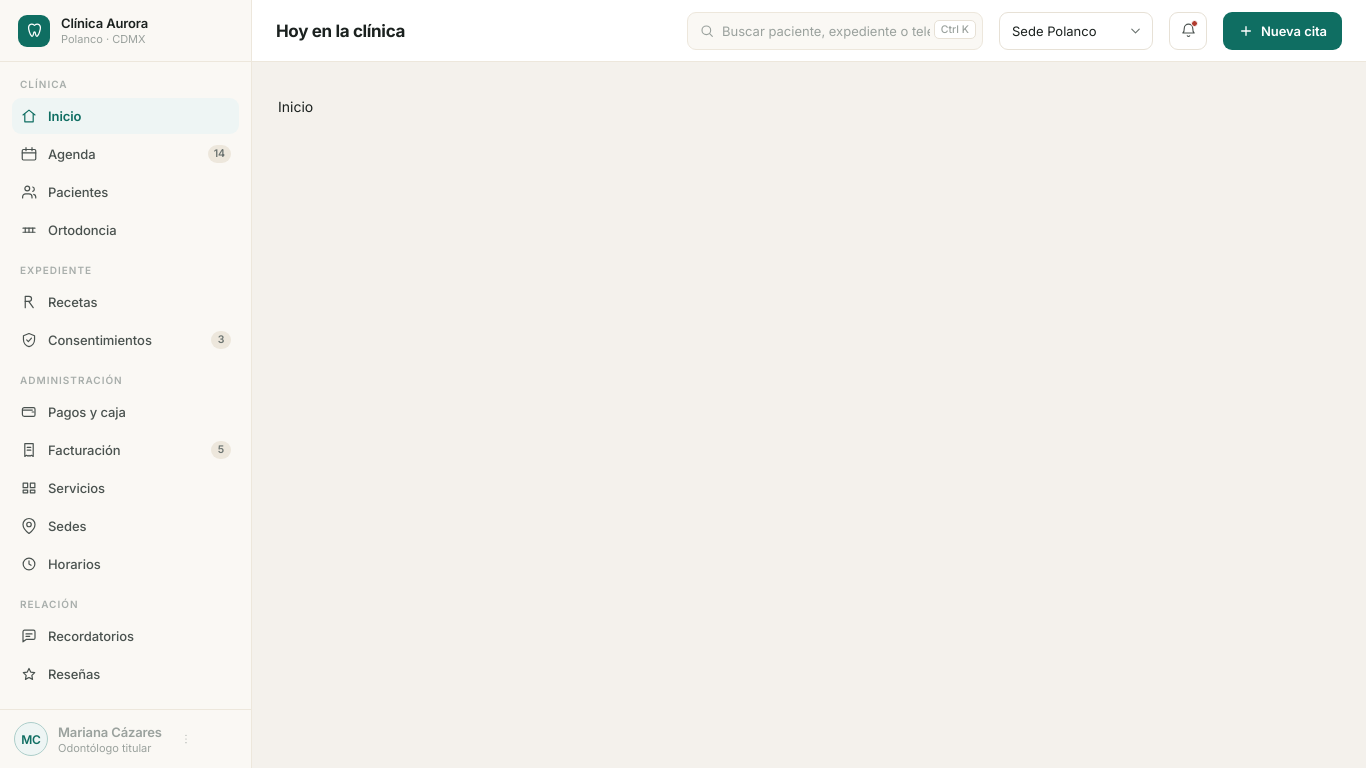
Test: <PanelShell /> › navigates from the sidebar
Click the link "Pacientes".
click(64, 192)  # box [20, 183, 108, 201]
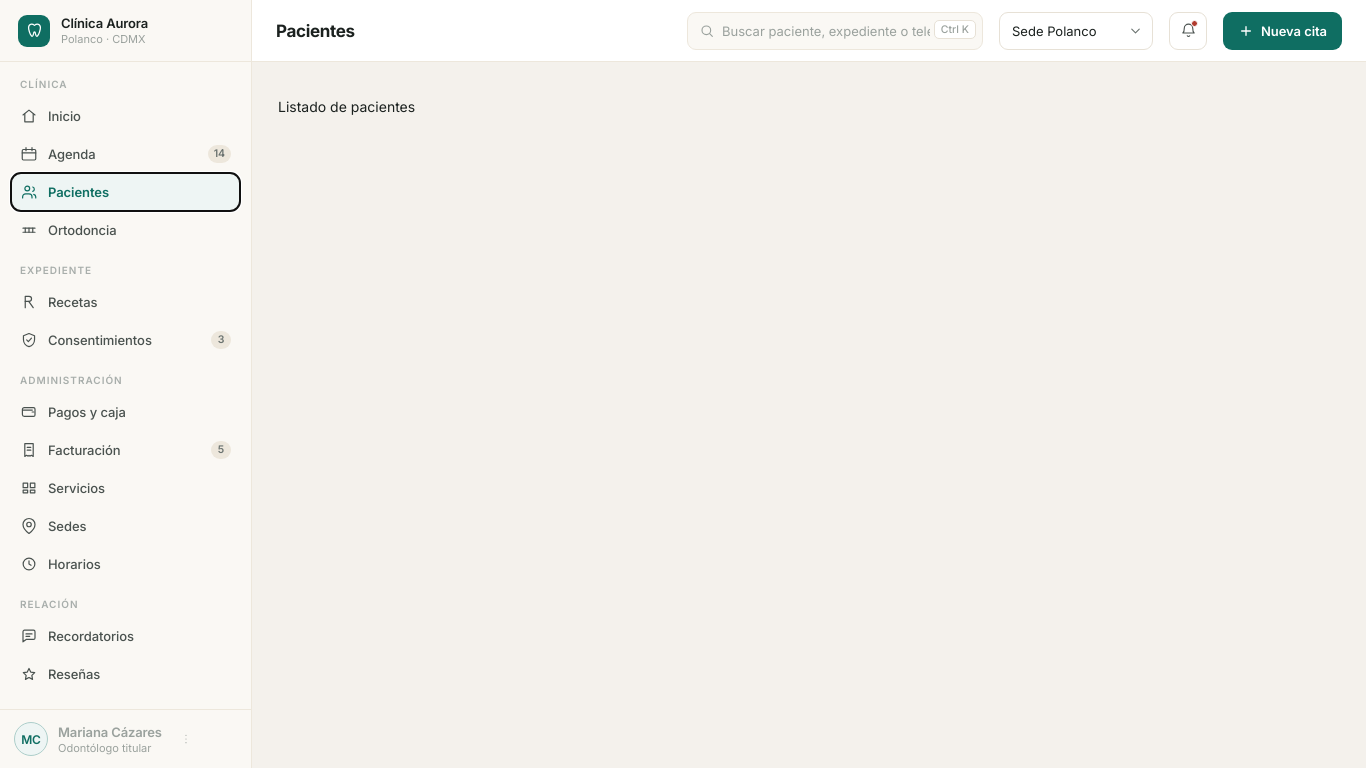
expect the text "Listado de pacientes" is shown: met, box [278, 98, 415, 115]
expect the heading "Pacientes" is shown: met, box [276, 20, 355, 40]
